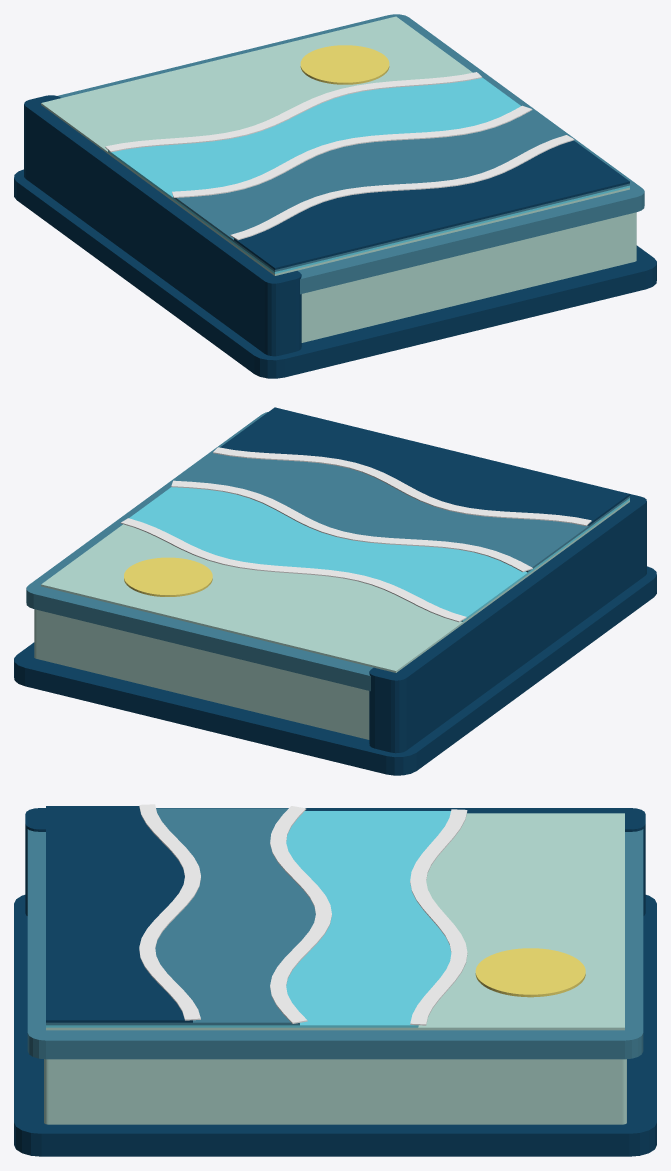
Rendered from book_ondas.fbx.
3 views of the same model, one above another, from view 1: azimuth 30°, elevation 25°; view 2: azimuth 150°, elevation 25°; view 3: azimuth 270°, elevation 25° (orthographic). The views are drawn at different scales.
Visible parts, largest first — view 1: book_ondas_livro; view 2: book_ondas_livro; view 3: book_ondas_livro.
Part boxes in pixels (x1,y1,x2,y2): book_ondas_livro: (14, 14, 656, 378); book_ondas_livro: (14, 407, 656, 775); book_ondas_livro: (14, 804, 656, 1156).
Size of the model in its own units: 2.49 by 0.596 by 2.8.
1 material, 1 textured.
